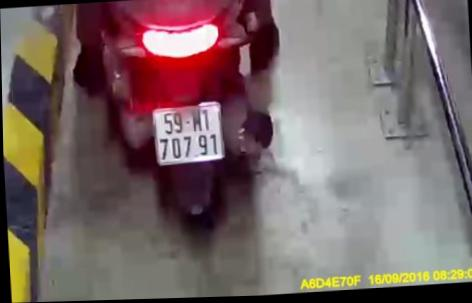LP: (149, 101, 227, 169)
